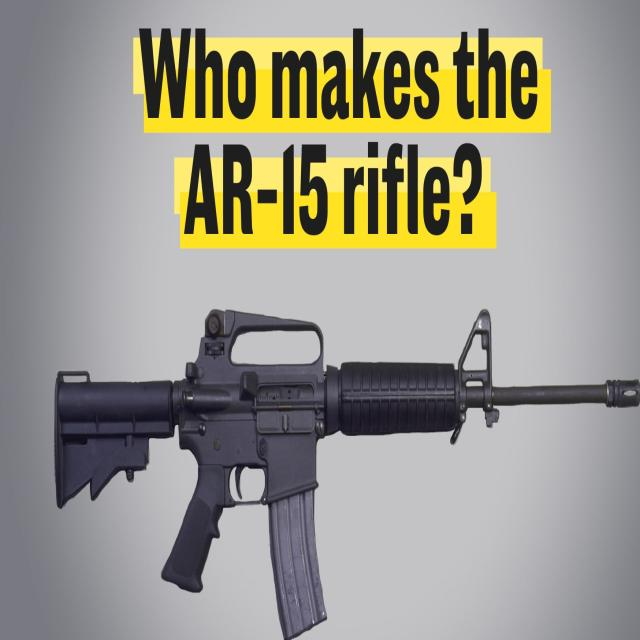Weapon: (54, 310, 640, 640)
